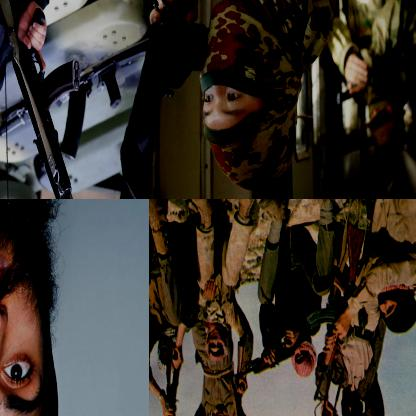pistol: (330, 72, 367, 110)
rifle: (0, 0, 106, 198), (0, 43, 148, 163), (304, 219, 364, 405), (228, 321, 307, 390), (155, 350, 184, 415)
